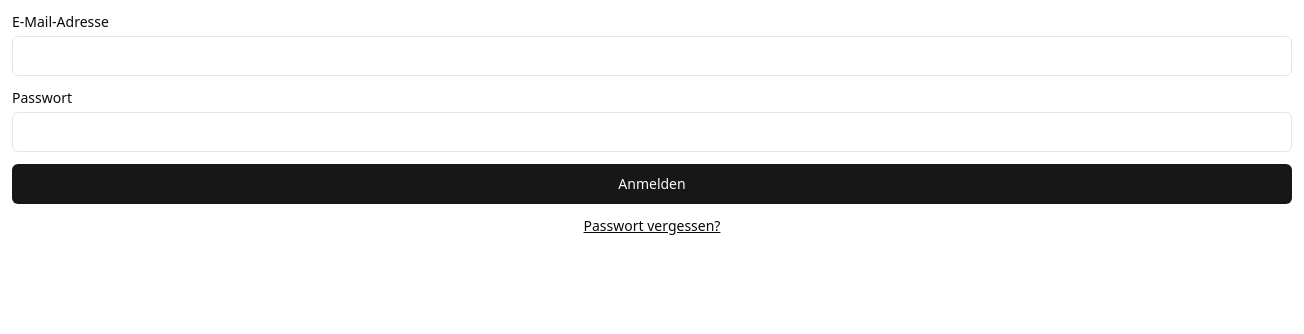
LoginForm › shows the blocked notice with the contact on account_blocked
Type "a@b.de" into the field labelled "E-Mail-Adresse".
click(652, 56); type("a@b.de")  # box [12,36,1292,76]
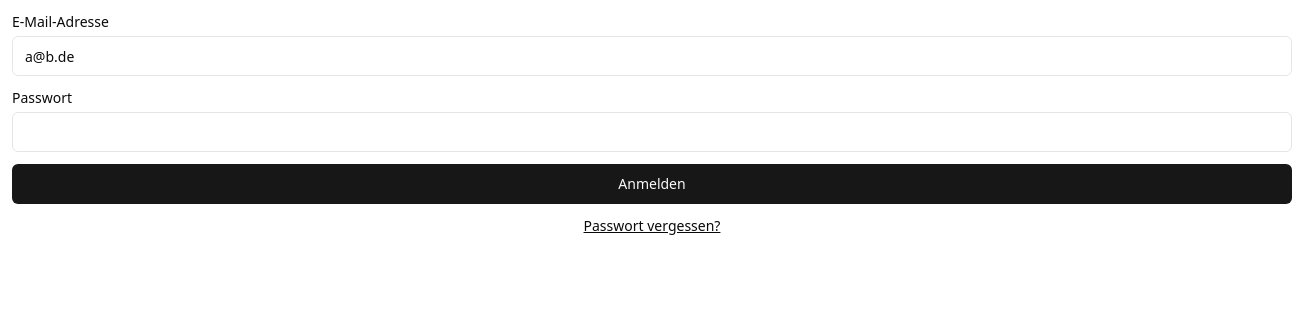
Type "x" into the password field labelled "Passwort".
click(652, 132); type("x")  # box [12,112,1292,152]
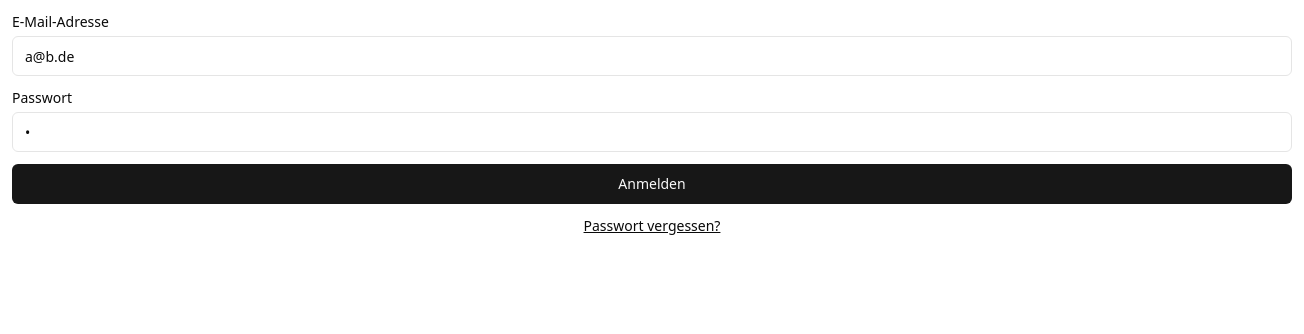
Click the button "Anmelden".
click(652, 184)  # box [12,164,1292,204]
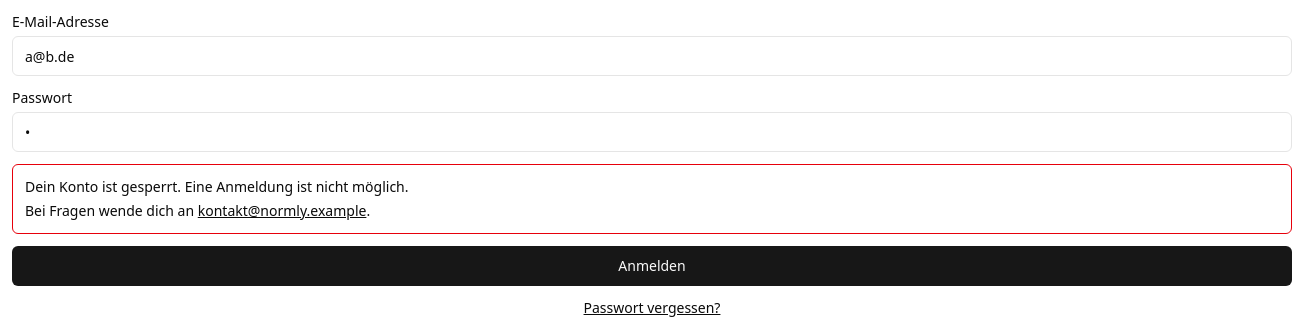
Check: the text "Dein Konto ist gesperrt. Eine Anmeldung ist nicht möglich." is shown, box [25,177,408,196]
